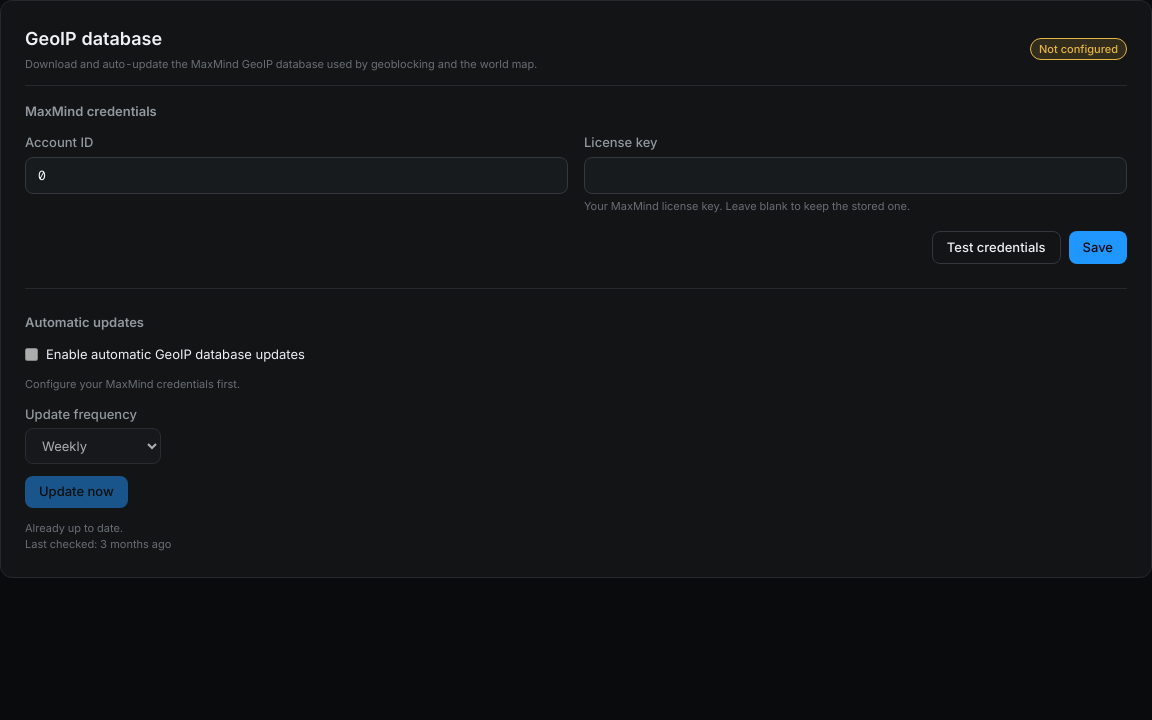
Test: GeoIPSettingsSection — save › surfaces backend ApiError as inline error, no toast
Click the button "Save".
click(1098, 247)  # box [1069,230,1127,264]
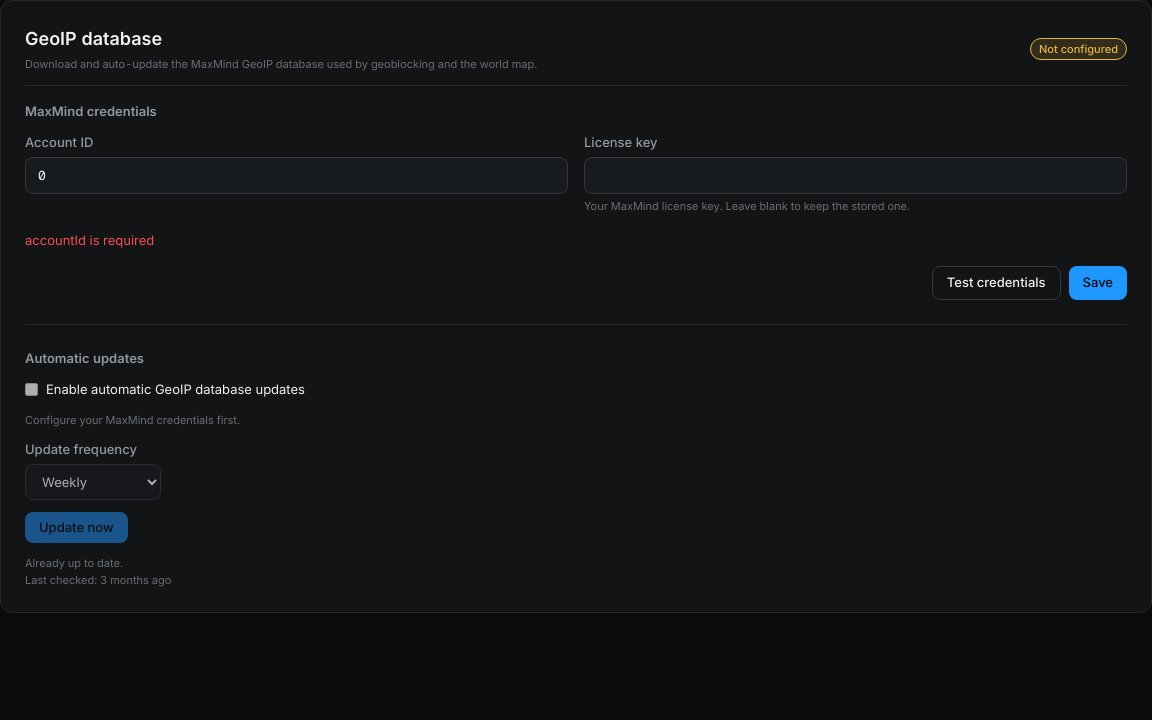
Now the text "accountId is required" is shown, box [25,232,154,248]
